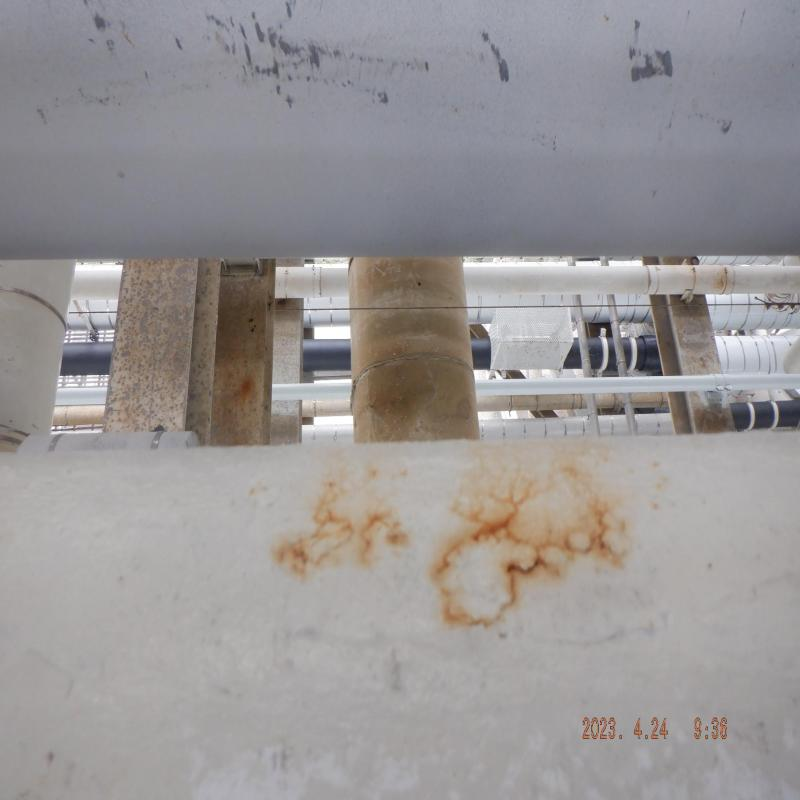corrosion: (501, 547, 562, 579), (466, 512, 516, 548), (585, 503, 616, 557)
